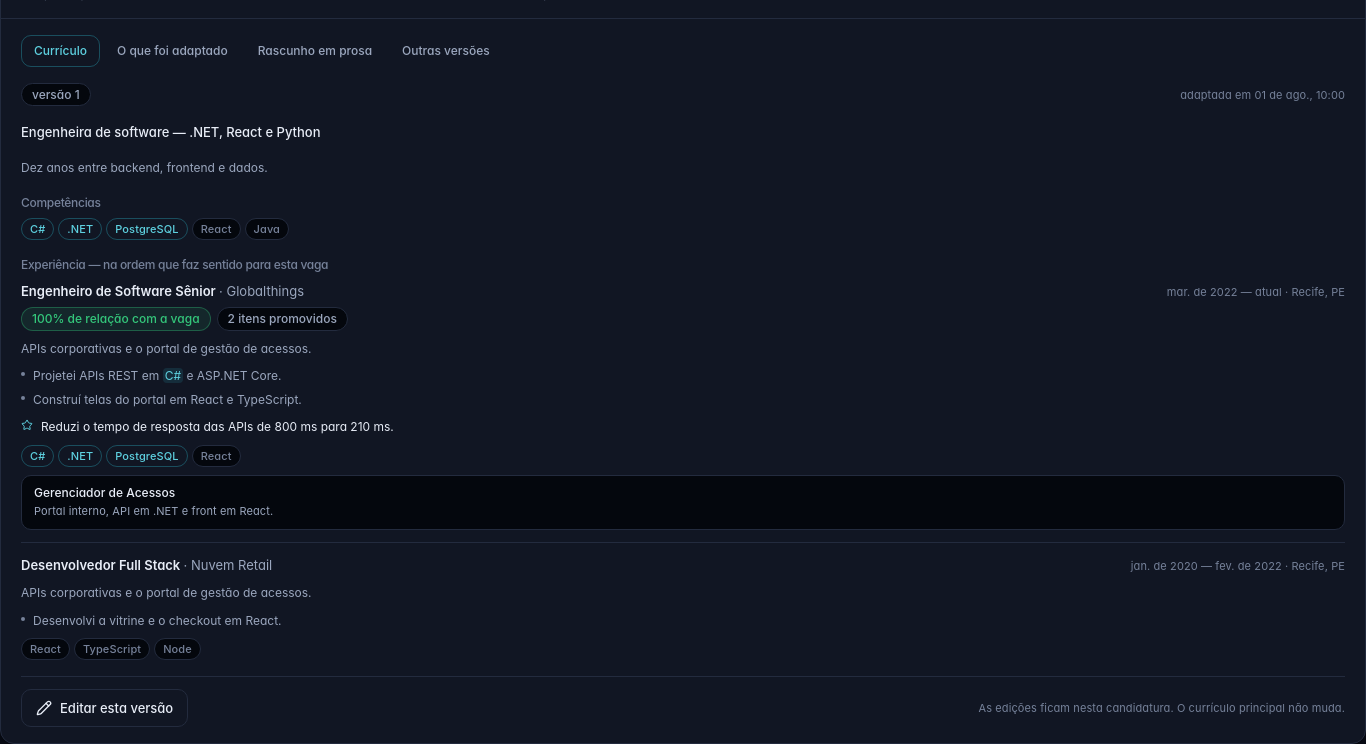
Scenario: ApplicationResumePanel editing › keeps save disabled until something actually changed
The image size is (1366, 744).
(page scrolled)
Expected: the text "versão 1" is shown, [21,83,91,106]
What coordinates should you click on to do the following:
click the button "Editar esta versão"
I would click on:
 (105, 708)
Its box is [21,689,188,727].
(page scrolled)
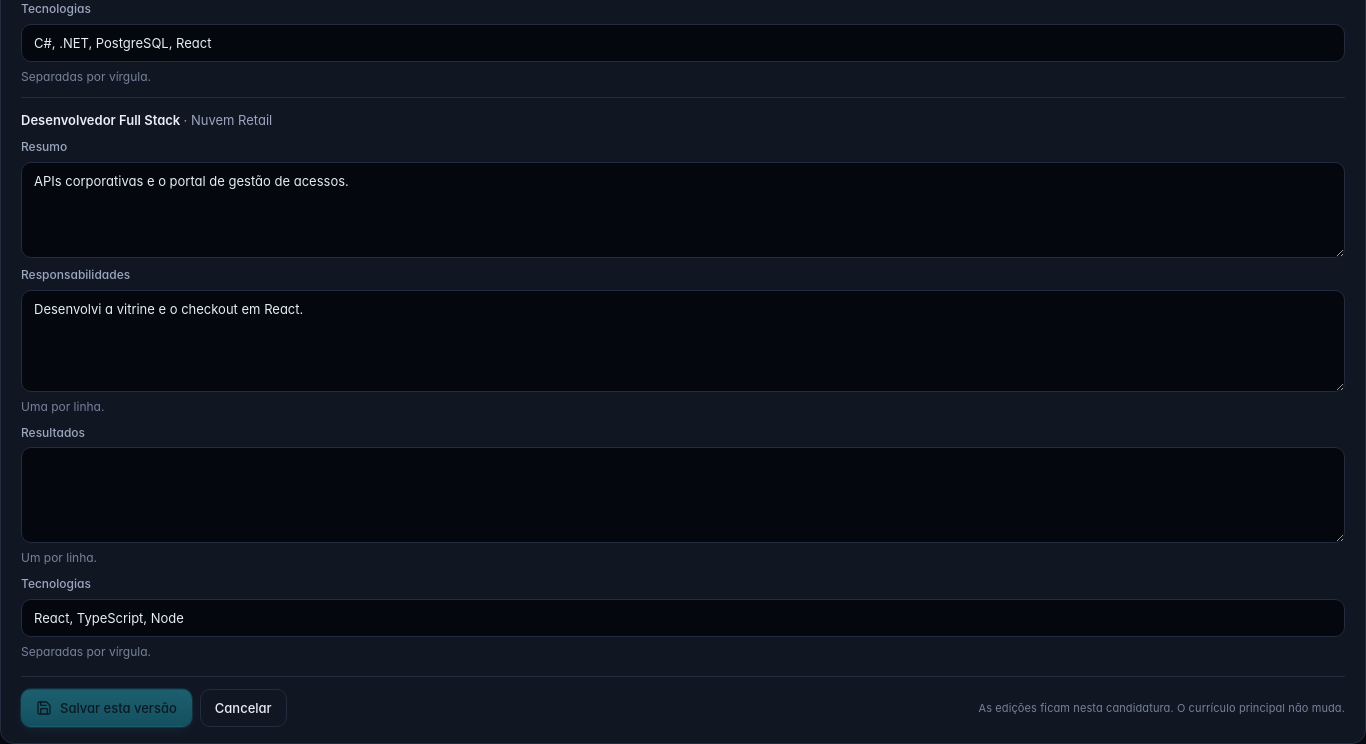
Result: the button "Salvar esta versão" is disabled at [21,689,192,727]
